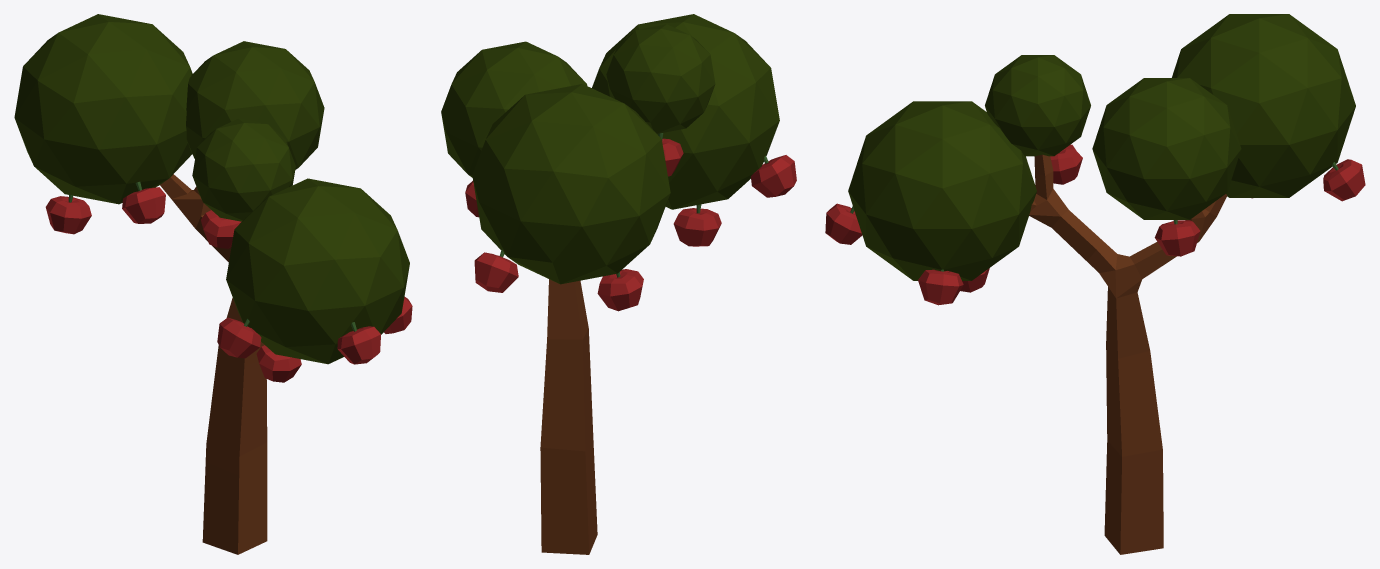
The model's file is TEX_apple_tree_RTH.fbx.
The picture shows the model from 3 angles, left to right: view 1: azimuth 30°, elevation 25°; view 2: azimuth 150°, elevation 25°; view 3: azimuth 270°, elevation 25°; orthographic projection. The views are drawn at different scales.
Visible parts, largest first — view 1: F_apple_tree_RTH, F_apple_RTH.002, F_apple_RTH.008, F_apple_RTH.006, F_apple_RTH.003, F_apple_RTH.004, F_apple_RTH.007; view 2: F_apple_tree_RTH, F_apple_RTH.004, F_apple_RTH.002, F_apple_RTH.008, F_apple_RTH, F_apple_RTH.007; view 3: F_apple_tree_RTH, F_apple_RTH, F_apple_RTH.001, F_apple_RTH.005, F_apple_RTH.006, F_apple_RTH.007.
Part boxes in pixels (x1,y1,x2,y2): F_apple_tree_RTH: (14,14,409,554); F_apple_RTH.002: (45,194,91,234); F_apple_RTH.008: (217,317,261,358); F_apple_RTH.006: (337,322,380,364); F_apple_RTH.003: (122,181,165,223); F_apple_RTH.004: (256,345,301,382); F_apple_RTH.007: (201,210,241,248); F_apple_tree_RTH: (441,14,779,554); F_apple_RTH.004: (673,204,721,246); F_apple_RTH.002: (597,269,643,311); F_apple_RTH.008: (751,155,796,197); F_apple_RTH: (474,249,518,292); F_apple_RTH.007: (658,133,683,176); F_apple_tree_RTH: (848,14,1355,554); F_apple_RTH: (1323,159,1365,201); F_apple_RTH.001: (1154,220,1200,256); F_apple_RTH.005: (918,269,963,305); F_apple_RTH.006: (825,203,862,244); F_apple_RTH.007: (1050,144,1082,184).
Bounding box in the file's own units: 128 × 252 × 251.
3 materials, 3 textured.
